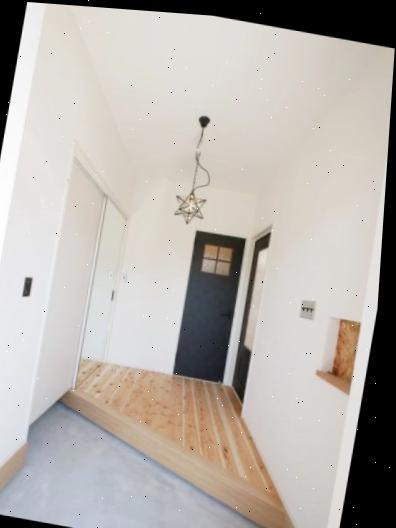floor: (0, 401, 259, 528)
safe: (68, 357, 287, 515)
